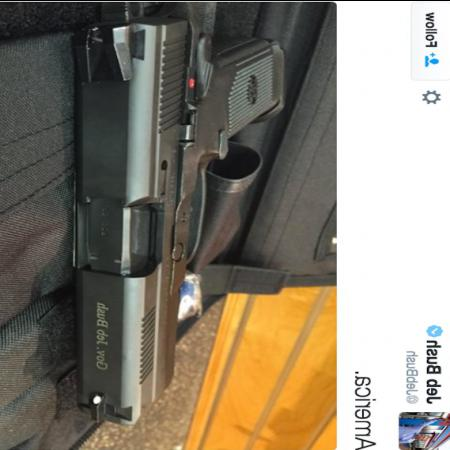Pistol: (70, 20, 286, 424)
